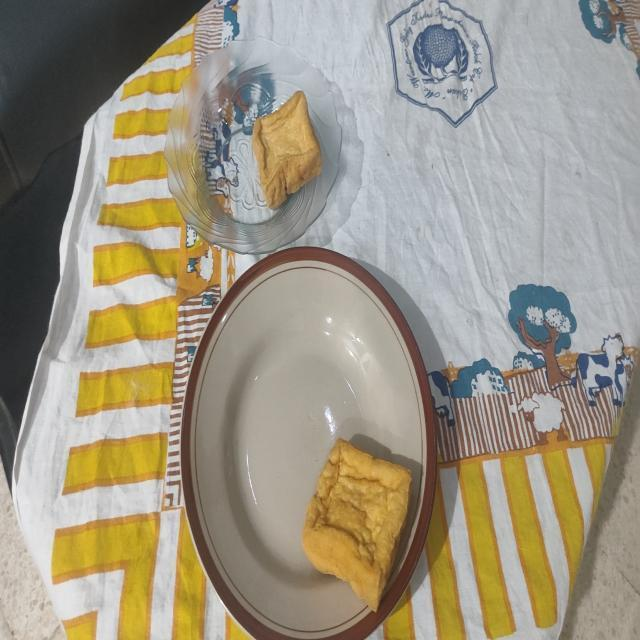tahu_goreng: (303, 438, 412, 610), (252, 90, 322, 210)
